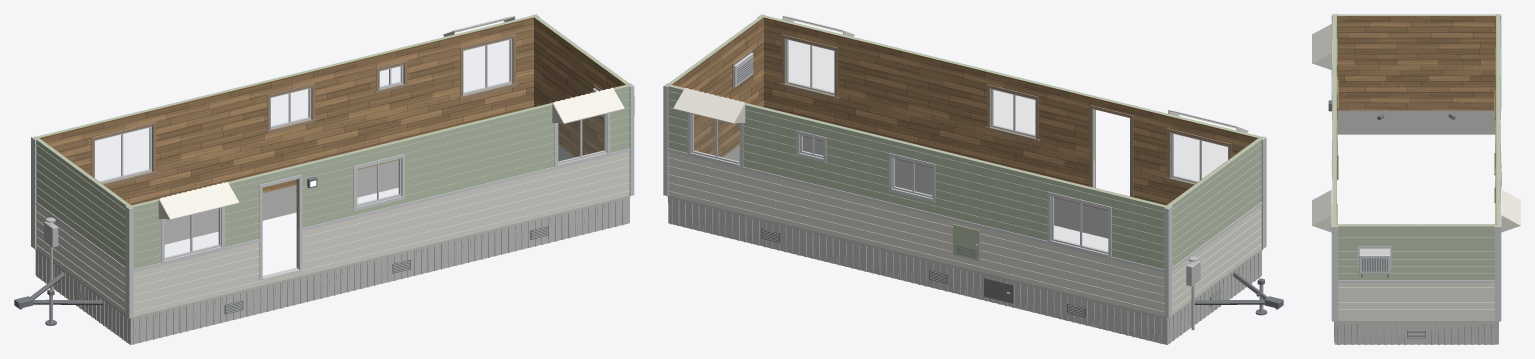
File: trailer_e.glb
The picture shows the model from 3 angles, left to right: view 1: azimuth 30°, elevation 25°; view 2: azimuth 150°, elevation 25°; view 3: azimuth 270°, elevation 25°; orthographic projection. The views are drawn at different scales.
Visible parts, largest first — view 1: trailer_e_panel, trailer_e_tr_w, trailer_e_tr_g, trailer_e_skirt_g, trailer_e_glass, trailer_e_alu, trailer_e_trim, trailer_e_steel_d, trailer_e_galv; view 2: trailer_e_panel, trailer_e_tr_g, trailer_e_tr_w, trailer_e_skirt_g, trailer_e_alu, trailer_e_glass, trailer_e_trim, trailer_e_steel_d, trailer_e_galv; view 3: trailer_e_panel, trailer_e_tr_g, trailer_e_tr_w, trailer_e_skirt_g, trailer_e_alu, trailer_e_steel_d, trailer_e_trim.
Boxes of the visible parts, x1,y1,x2,y2 form: trailer_e_panel: [36, 16, 628, 267]; trailer_e_tr_w: [35, 16, 629, 316]; trailer_e_tr_g: [33, 14, 631, 269]; trailer_e_skirt_g: [35, 145, 630, 344]; trailer_e_glass: [47, 40, 603, 256]; trailer_e_alu: [31, 14, 634, 318]; trailer_e_trim: [91, 34, 601, 267]; trailer_e_steel_d: [14, 114, 603, 325]; trailer_e_galv: [44, 217, 58, 289]; trailer_e_panel: [668, 16, 1261, 210]; trailer_e_tr_g: [665, 14, 1264, 269]; trailer_e_tr_w: [668, 16, 1261, 316]; trailer_e_skirt_g: [667, 136, 1262, 344]; trailer_e_alu: [663, 14, 1266, 318]; trailer_e_glass: [694, 40, 1227, 264]; trailer_e_trim: [732, 34, 1231, 196]; trailer_e_steel_d: [737, 58, 1283, 317]; trailer_e_galv: [1186, 256, 1200, 330]; trailer_e_panel: [1336, 14, 1496, 225]; trailer_e_tr_g: [1332, 14, 1501, 279]; trailer_e_tr_w: [1312, 24, 1520, 320]; trailer_e_skirt_g: [1333, 110, 1499, 344]; trailer_e_alu: [1331, 14, 1501, 321]; trailer_e_steel_d: [1328, 100, 1501, 338]; trailer_e_trim: [1337, 38, 1495, 224].
Bounding box in the file's own units: 13.98 × 3.23 × 5.
12 materials, 1 textured.
